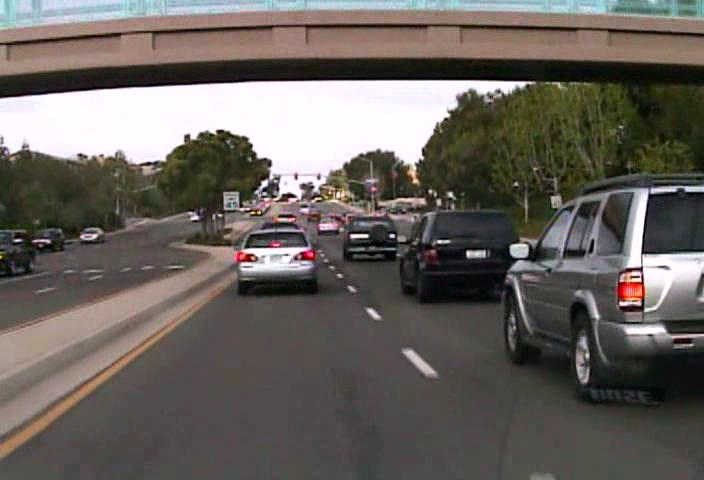speedLimit45: (223, 191, 240, 211)
